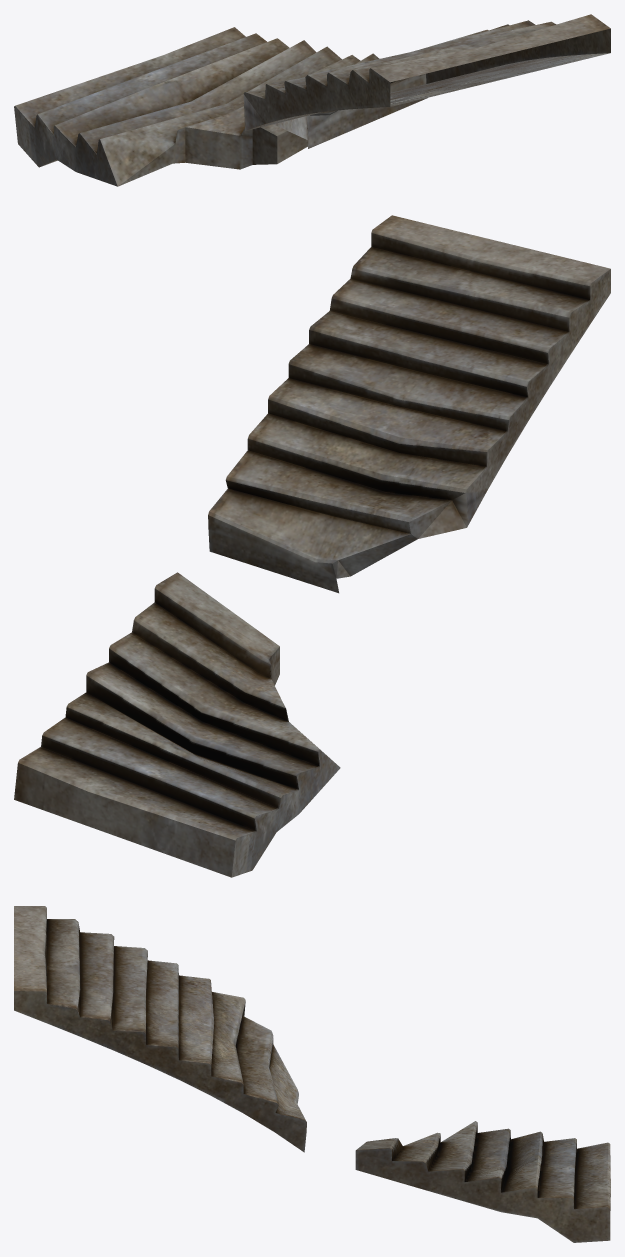
Rendered from LobbyStairs_Broken.FBX.
3 renders of one model, top to bottom at view 1: azimuth 30°, elevation 25°; view 2: azimuth 150°, elevation 25°; view 3: azimuth 270°, elevation 25°, orthographic. The views are drawn at different scales.
Visible parts, largest first — view 1: LobbyStairs_Broken; view 2: LobbyStairs_Broken; view 3: LobbyStairs_Broken.
Part boxes in pixels (x1=…): LobbyStairs_Broken: x1=14, y1=14, x2=610, y2=186; LobbyStairs_Broken: x1=14, y1=215, x2=610, y2=877; LobbyStairs_Broken: x1=14, y1=906, x2=610, y2=1242.
Size of the model in its own units: 205 by 301 by 593.
